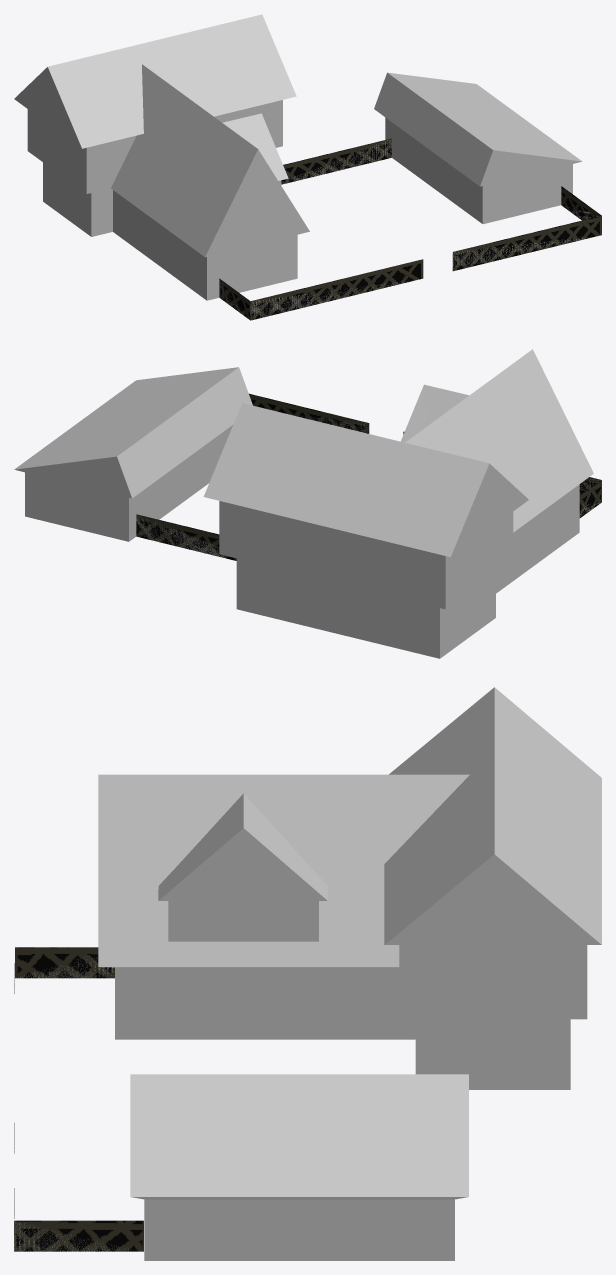
Rendered from farm_1_3.dae.
The picture shows the model from 3 angles, top to bottom: view 1: azimuth 30°, elevation 25°; view 2: azimuth 150°, elevation 25°; view 3: azimuth 270°, elevation 25°; orthographic projection. The views are drawn at different scales.
Parts seen in each view (by area): view 1: Cube.002; view 2: Cube.002; view 3: Cube.002.
Part boxes in pixels (left/top/right/bottom): Cube.002: left=14, top=14, right=601, bottom=320; Cube.002: left=14, top=349, right=601, bottom=658; Cube.002: left=14, top=687, right=601, bottom=1260.
Size of the model in its own units: 1.61 by 1.22 by 0.5751.
